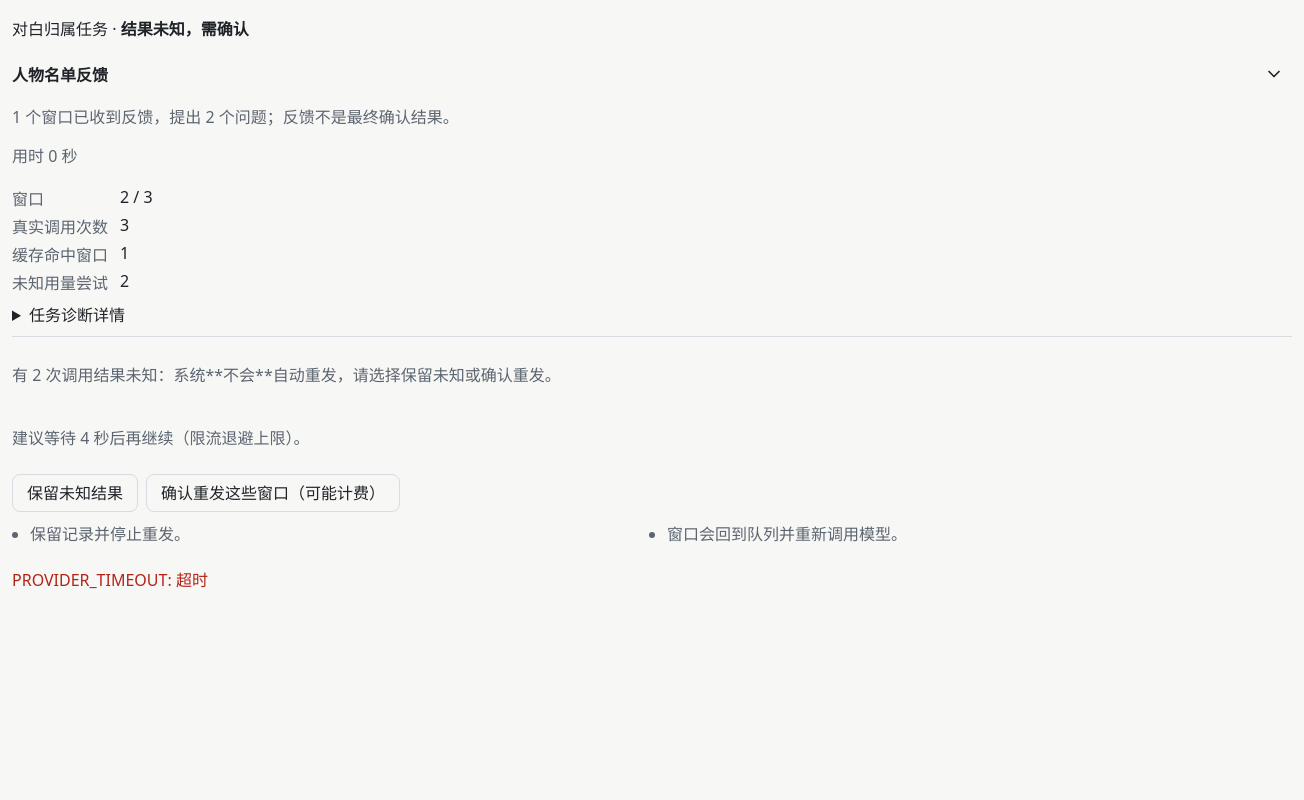
Test: JobPanel › restores Chinese feedback reasons as suggestions in a collapsible block, without a new request
The width and height of the screenshot is (1304, 800).
Expected: the text "1 个窗口已收到反馈，提出 2 个问题；反馈不是最终确认结果。" is shown, [12, 106, 459, 128]
What coordinates should you click on to do the following:
click the button named "展开人物名单反馈"
I would click on:
 (1274, 74)
Its box is [1256, 56, 1292, 92].
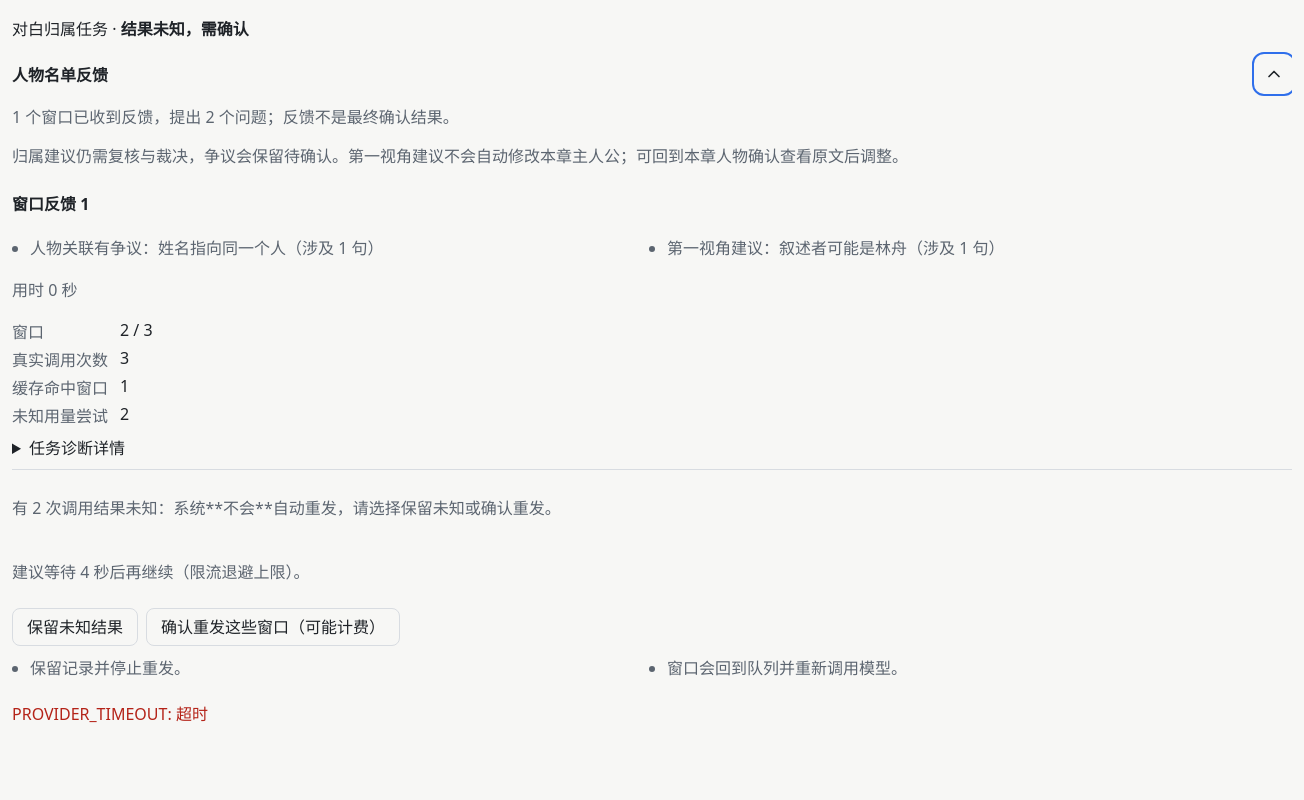
Expected: the list item "人物关联有争议：姓名指向同一个人（涉及 1 句）" is shown, [30, 237, 384, 259]
Expected: the list item "第一视角建议：叙述者可能是林舟（涉及 1 句）" is shown, [667, 237, 1004, 259]
Expected: the text "归属建议仍需复核与裁决，争议会保留待确认。第一视角建议不会自动修改本章主人公；可回到本章人物确认查看原文后调整。" is shown, [12, 145, 908, 167]
